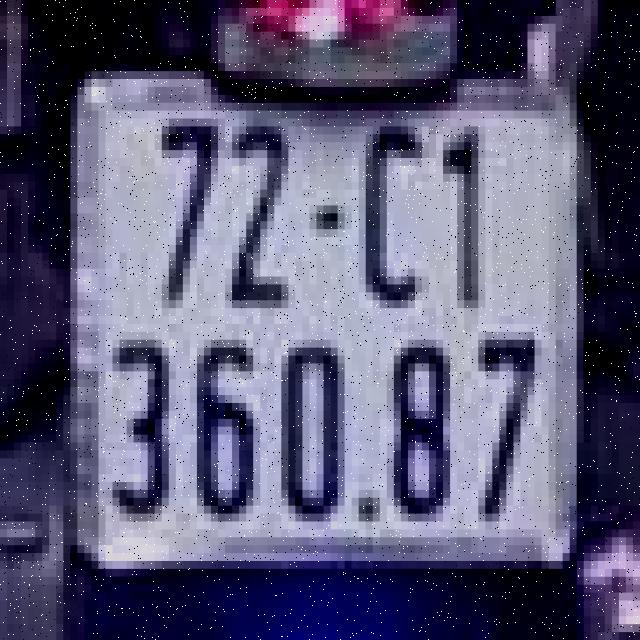0: (274, 324, 359, 529)
1: (429, 119, 499, 316)
2: (225, 111, 295, 324)
3: (95, 324, 179, 529)
6: (183, 320, 253, 533)
7: (457, 320, 556, 533), (148, 103, 218, 308)
8: (369, 316, 461, 537)
C: (352, 115, 429, 312)
